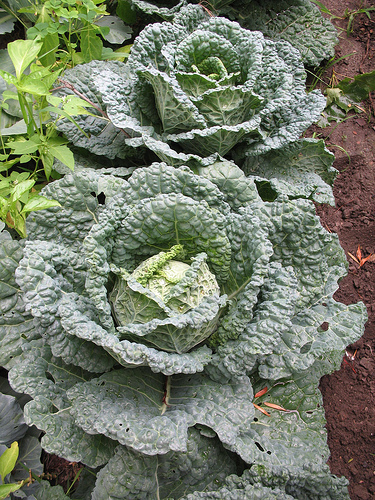cabbage: (45, 2, 327, 167), (121, 236, 206, 321)
